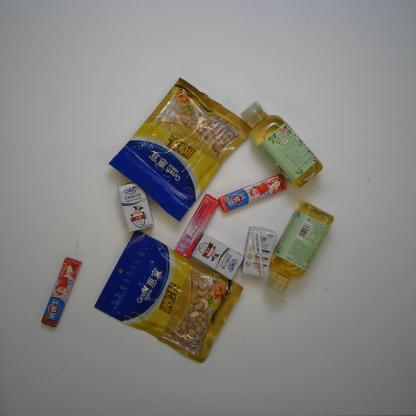Candy: (172, 194, 219, 262), (40, 255, 83, 329), (218, 174, 288, 214)
Dried Fruit: (106, 77, 256, 223), (92, 228, 243, 366)
Drink: (238, 98, 326, 189), (263, 200, 335, 296)
Milk: (190, 233, 245, 280), (116, 179, 157, 233), (241, 224, 277, 280)
